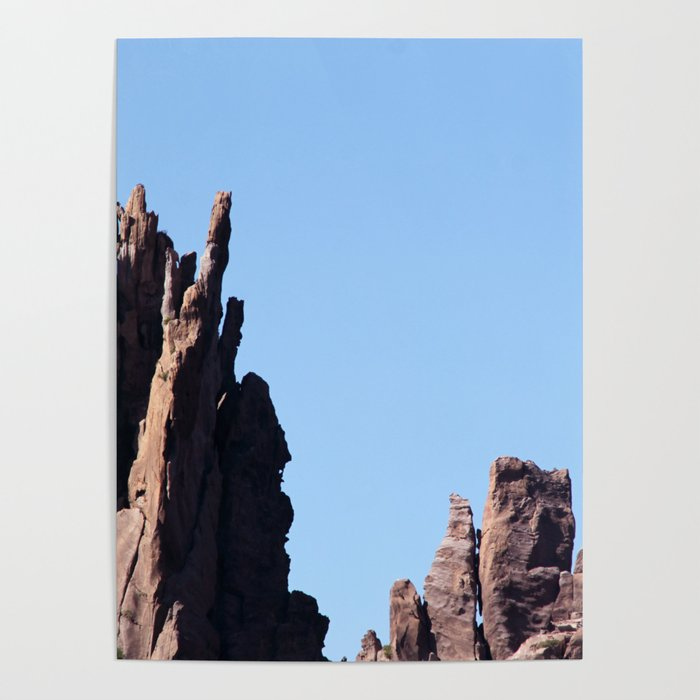volcanic_rock: (350, 456, 579, 658)
